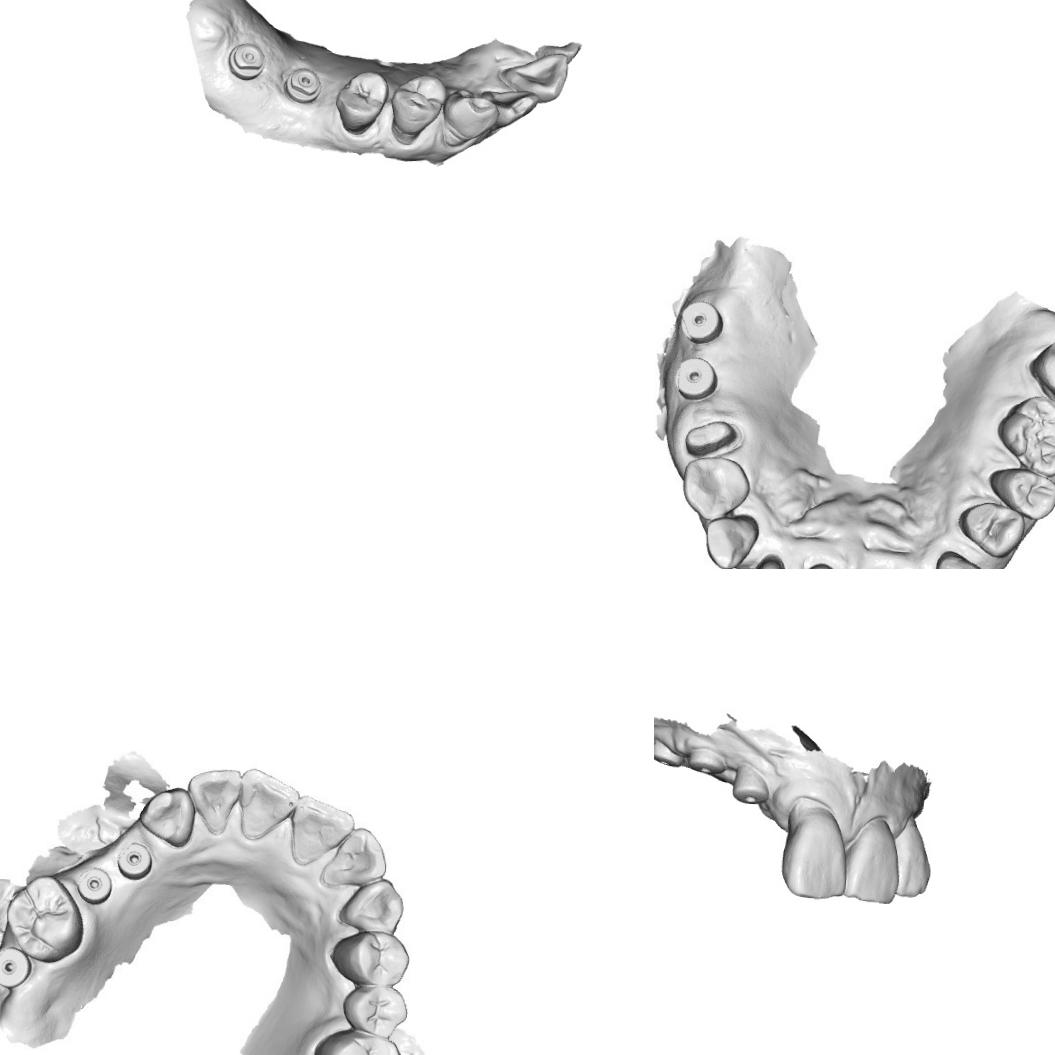canine: (338, 877, 405, 938), (138, 786, 198, 853), (439, 86, 500, 150), (704, 511, 761, 569), (931, 550, 986, 569)
crown: (682, 414, 742, 458)
implant: (679, 296, 727, 348), (674, 355, 718, 400), (731, 762, 772, 805), (226, 40, 267, 82), (282, 66, 323, 106), (78, 862, 116, 904), (116, 839, 152, 876), (687, 746, 728, 776), (0, 948, 31, 986), (654, 736, 685, 768)
incisor: (780, 805, 850, 901), (842, 815, 904, 905), (290, 797, 352, 870), (236, 773, 300, 838), (322, 828, 383, 891), (498, 51, 568, 104), (892, 812, 934, 898), (189, 770, 241, 834), (478, 88, 540, 130), (740, 553, 786, 569)
molar: (1, 872, 87, 966), (997, 388, 1055, 480), (313, 1026, 403, 1055), (1025, 329, 1055, 413)
premolar: (675, 454, 752, 527), (324, 930, 410, 988), (388, 72, 448, 146), (959, 495, 1024, 560), (988, 463, 1055, 525), (333, 69, 390, 136), (338, 982, 408, 1034)
